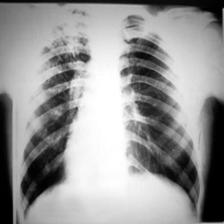tuberculosis: (4, 5, 205, 222)
